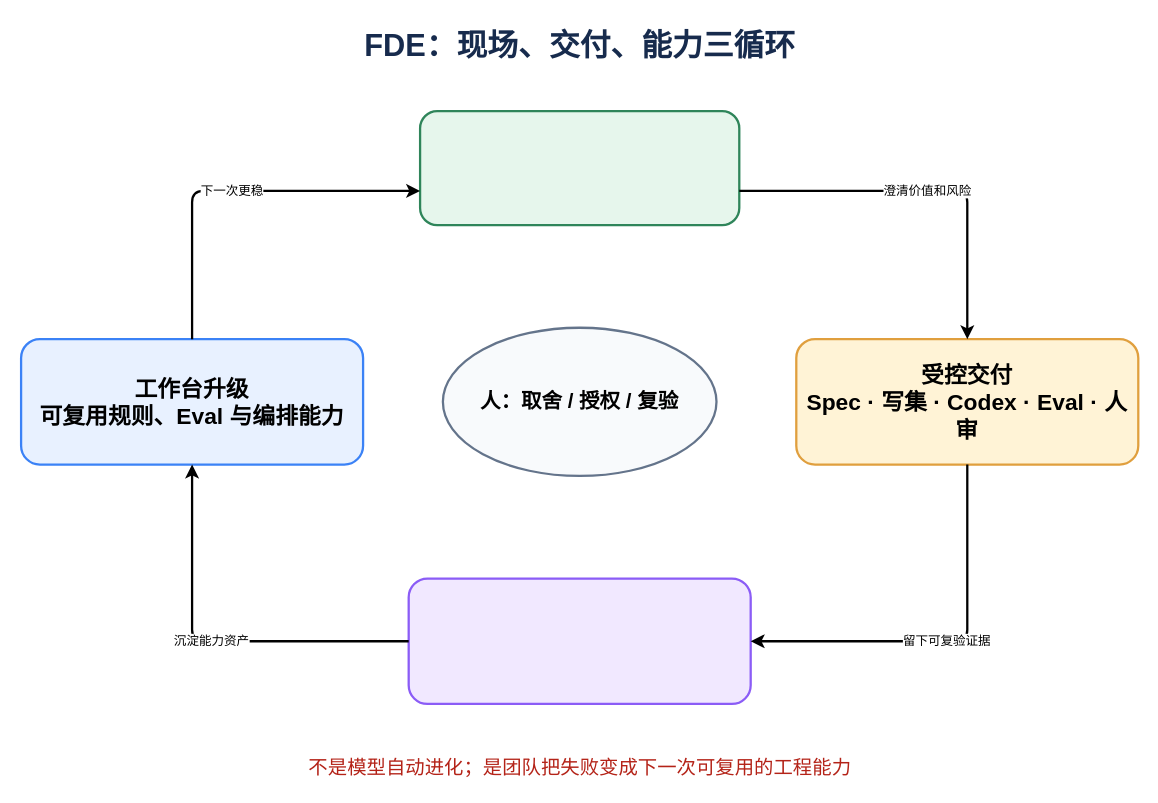
Some shapes in this 1158 by 803 pixel diagram are drawn without their labels. Here are the shapes that lost their labels. From the top down, the centre of each, then its label:
(x=579, y=167): FlowERP 现场问题 用户、数据、运行后果
(x=579, y=641): 证据回流 失败 · 修订 · 摘要 · 反馈
